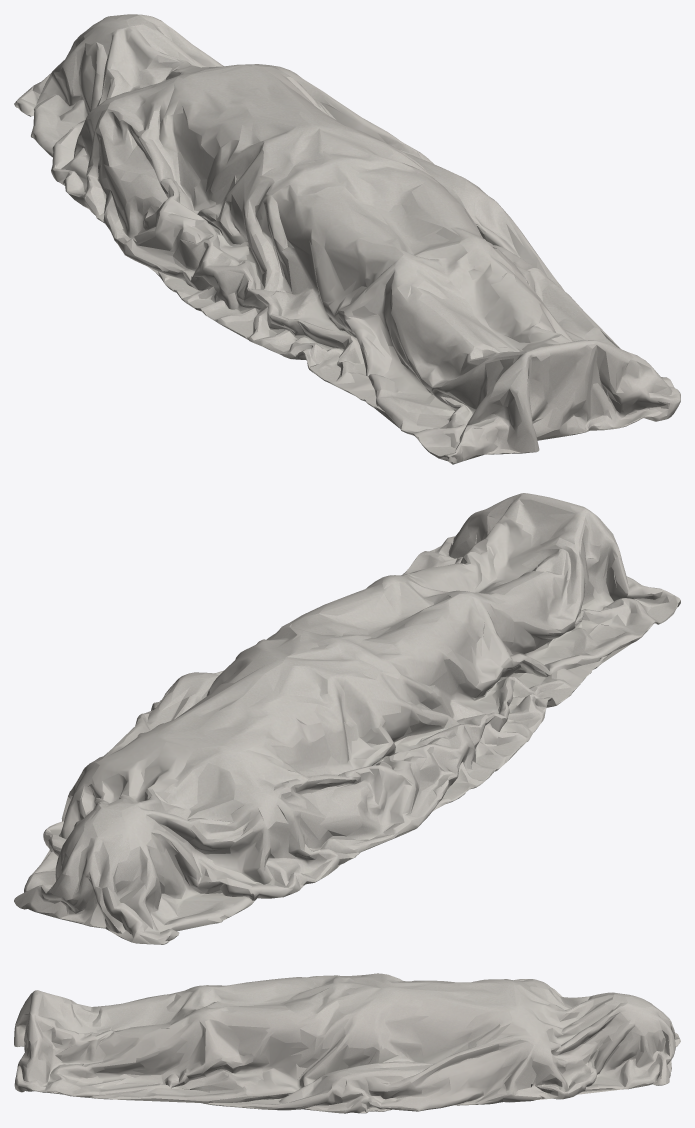
Rendered from covered_body.glb.
The picture shows the model from 3 angles, top to bottom: view 1: azimuth 30°, elevation 25°; view 2: azimuth 150°, elevation 25°; view 3: azimuth 270°, elevation 25°; orthographic projection. The views are drawn at different scales.
Parts seen in each view (by area): view 1: CoveredBodyMesh; view 2: CoveredBodyMesh; view 3: CoveredBodyMesh.
Part boxes in pixels (x1,y1,x2,y2): CoveredBodyMesh: (14,14,680,464); CoveredBodyMesh: (14,493,680,944); CoveredBodyMesh: (14,973,680,1113).
Size of the model in its own units: 0.7094 by 0.2404 by 1.9.
1 material, 1 textured.
